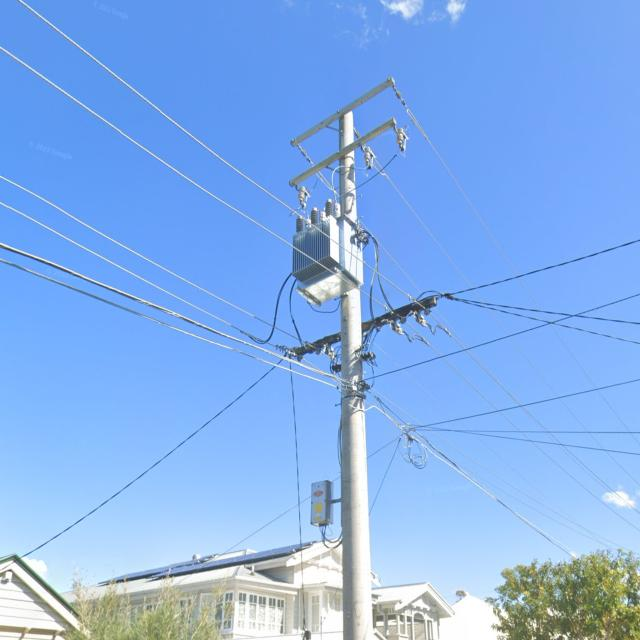HV-transmission: (288, 76, 409, 212)
LV link: (388, 317, 431, 345), (412, 308, 450, 338)
LV link box: (358, 333, 378, 367)
concrete-pole: (339, 110, 375, 639)
crossarm: (293, 298, 437, 360), (289, 118, 397, 189), (288, 78, 394, 150)
transformer: (292, 200, 363, 309)
